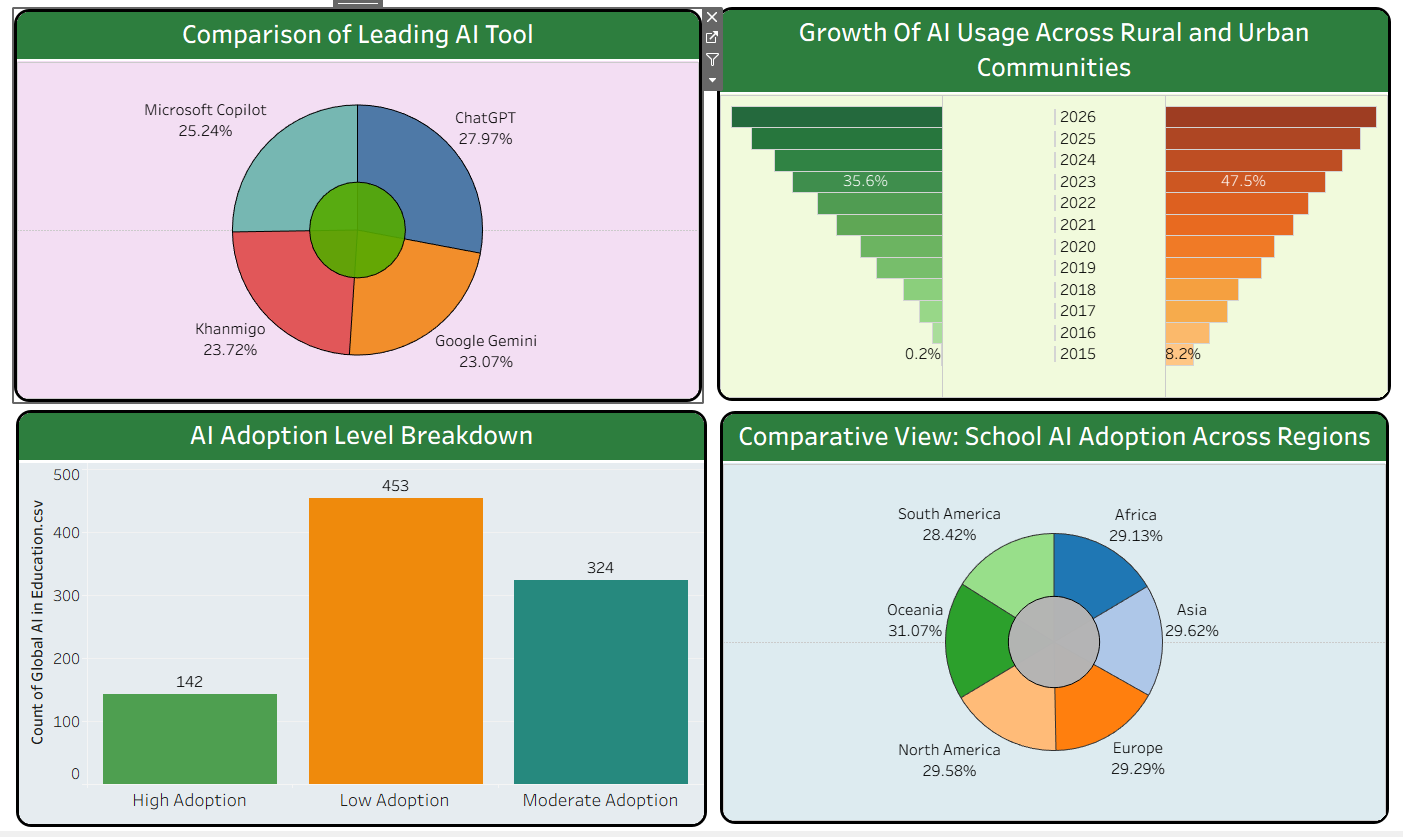

This screenshot's page, from the dashboard's own definition file:
{"tool":"tableau","page":{"name":"Dashboard 2","canvas":[1000,1000],"units":"permille","ordinal":1},"visuals":[{"type":"worksheet","title":"Growth Of AI Usage Across Rural and Urban Communities","mark":"Bar","rows":["year"],"cols":["rural_ai_usage_pct","Calculation_0614103974371333","urban_ai_usage_pct"],"box":[442.6,14.4,410.9,471.9]},{"type":"worksheet","title":"Comparison of Leading AI Tool","mark":"Pie","rows":["Calculation_0614103971041283","Calculation_0614103970975745"],"box":[14,16.8,419.4,470.7]},{"type":"legend","title":"Comparison of Leading AI Tool","param":"[federated.1y951fn04qznic1cq6ri30tqtnq7].[:Measure Names]","box":[865.7,25.2,125.2,70.7]},{"type":"legend","title":"Comparison of Leading AI Tool","param":"[federated.1y951fn04qznic1cq6ri30tqtnq7].[__tableau_internal_object_id__].[cnt:G","box":[866.3,106.6,128.2,63.5]},{"type":"legend","title":"Comparison of Leading AI Tool","param":"[federated.1y951fn04qznic1cq6ri30tqtnq7].[none:top_ai_tool:nk]","box":[867.5,179.6,127.6,127]},{"type":"legend","title":"Growth Of AI Usage Across Rural and Urban Communities","param":"[federated.1y951fn04qznic1cq6ri30tqtnq7].[avg:rural_ai_usage_pct:qk]","box":[866.9,316.2,127,79]},{"type":"legend","title":"Growth Of AI Usage Across Rural and Urban Communities","param":"[federated.1y951fn04qznic1cq6ri30tqtnq7].[avg:urban_ai_usage_pct:qk]","box":[868.7,407.2,127,80.2]},{"type":"legend","title":"Comparative View: School AI Adoption Across Regions","param":"[federated.1y951fn04qznic1cq6ri30tqtnq7].[avg:schools_ai_adoption_pct:qk]","box":[871.2,493.4,128.8,57.5]},{"type":"worksheet","title":"AI Adoption Level Breakdown","mark":"Automatic","rows":["Global AI in Education.csv_4EF589B2AB0347039137E41CA423D8CA"],"cols":["Calculation_1130050024120324"],"box":[15.3,497,421.2,499.4]},{"type":"worksheet","title":"Comparative View: School AI Adoption Across Regions","mark":"Pie","rows":["Calculation_1130050019405825","Calculation_1130050019450883"],"box":[444.4,498.2,407.8,494.6]},{"type":"legend","title":"Comparative View: School AI Adoption Across Regions","param":"[federated.1y951fn04qznic1cq6ri30tqtnq7].[none:region:nk]","box":[871.2,556.9,123.3,177.2]}]}

Visuals, with their boxes on the dashboard's canvas, which has no fixed pixel size, in thousandths of its width and height (x1, y1, x2, y2). These are canvas units, not pixel positions in the 1403x837 screenshot, which may show the page scaled, cropped or inside an application window:
"Growth Of AI Usage Across Rural and Urban Communities" worksheet (Bar marks): x1=443, y1=14, x2=854, y2=486
"Comparison of Leading AI Tool" worksheet (Pie marks): x1=14, y1=17, x2=433, y2=488
"Comparison of Leading AI Tool" legend: x1=866, y1=25, x2=991, y2=96
"Comparison of Leading AI Tool" legend: x1=866, y1=107, x2=994, y2=170
"Comparison of Leading AI Tool" legend: x1=868, y1=180, x2=995, y2=307
"Growth Of AI Usage Across Rural and Urban Communities" legend: x1=867, y1=316, x2=994, y2=395
"Growth Of AI Usage Across Rural and Urban Communities" legend: x1=869, y1=407, x2=996, y2=487
"Comparative View: School AI Adoption Across Regions" legend: x1=871, y1=493, x2=1000, y2=551
"AI Adoption Level Breakdown" worksheet: x1=15, y1=497, x2=436, y2=996
"Comparative View: School AI Adoption Across Regions" worksheet (Pie marks): x1=444, y1=498, x2=852, y2=993
"Comparative View: School AI Adoption Across Regions" legend: x1=871, y1=557, x2=994, y2=734
